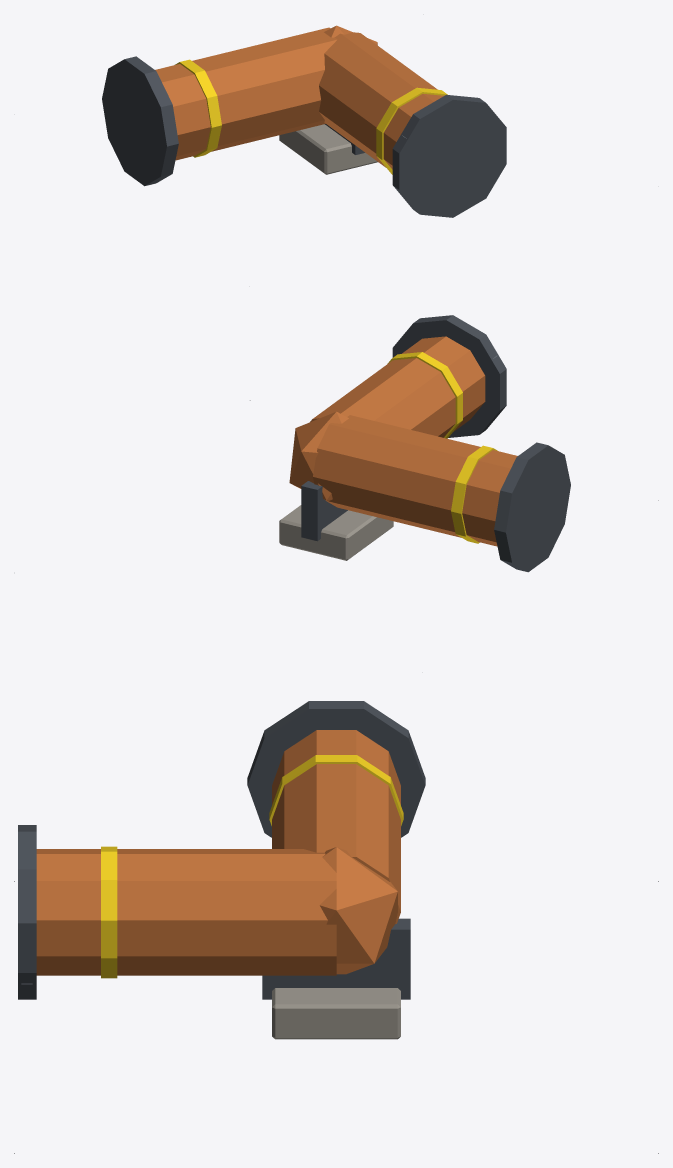
The model's file is tuyau_coude_t1.glb.
3 views of the same model, one above another, from view 1: azimuth 30°, elevation 25°; view 2: azimuth 150°, elevation 25°; view 3: azimuth 270°, elevation 25° (orthographic). The views are drawn at different scales.
Visible parts, largest first — view 1: pieces_cuivre.020, pieces_acier_sombre.050, pieces_beton.030, pieces_rive_t1.016; view 2: pieces_cuivre.020, pieces_acier_sombre.050, pieces_beton.030, pieces_rive_t1.016; view 3: pieces_cuivre.020, pieces_acier_sombre.050, pieces_beton.030, pieces_rive_t1.016.
Part boxes in pixels (bbox=[...]): pieces_cuivre.020: bbox=[155, 25, 443, 169]; pieces_acier_sombre.050: bbox=[102, 56, 506, 217]; pieces_beton.030: bbox=[279, 124, 377, 174]; pieces_rive_t1.016: bbox=[175, 59, 447, 174]; pieces_cuivre.020: bbox=[289, 336, 517, 546]; pieces_acier_sombre.050: bbox=[301, 315, 570, 572]; pieces_beton.030: bbox=[279, 505, 393, 560]; pieces_rive_t1.016: bbox=[387, 352, 498, 543]; pieces_cuivre.020: bbox=[36, 730, 400, 975]; pieces_acier_sombre.050: bbox=[18, 701, 425, 999]; pieces_beton.030: bbox=[272, 988, 400, 1039]; pieces_rive_t1.016: bbox=[101, 755, 403, 978].
Size of the model in its own units: 1 by 0.318 by 1.
